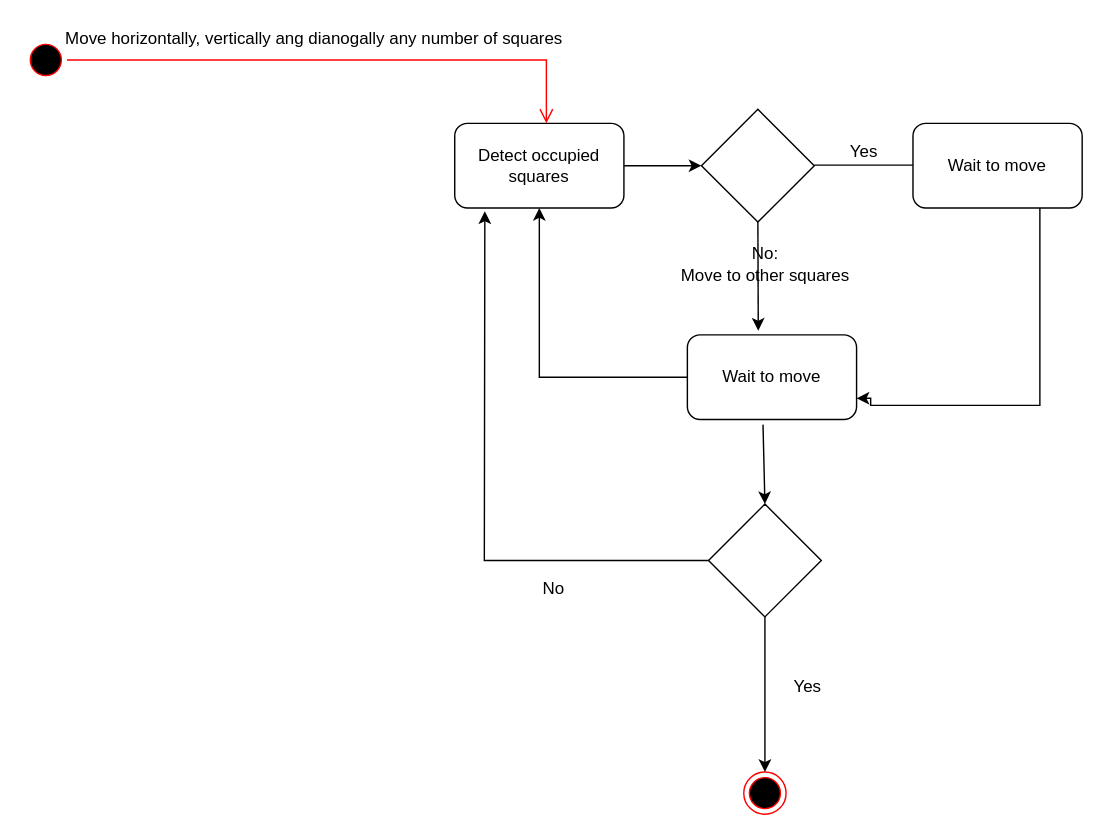
Some shapes in this 1107 by 839 pixel diagram are drawn without their labels. Each missing label, with the box of its shape:
isCaptured: (707, 503, 821, 617)
isEnemy: (700, 108, 814, 222)
